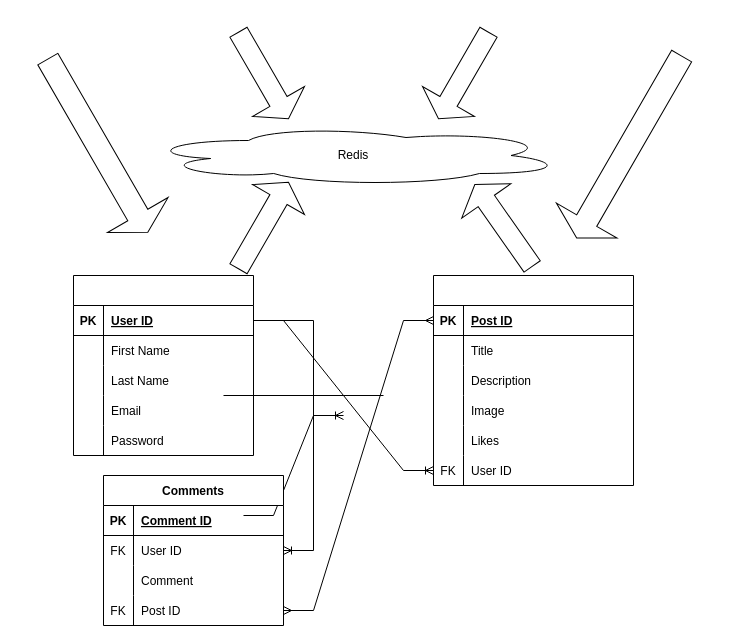
Image size: 730x644. Some labels were removed from this diagram. The box of each missing label's shape, as (x1, y1, x2, y2) in pixels:
Posts: (432, 274, 634, 486)
Users: (72, 274, 254, 456)
